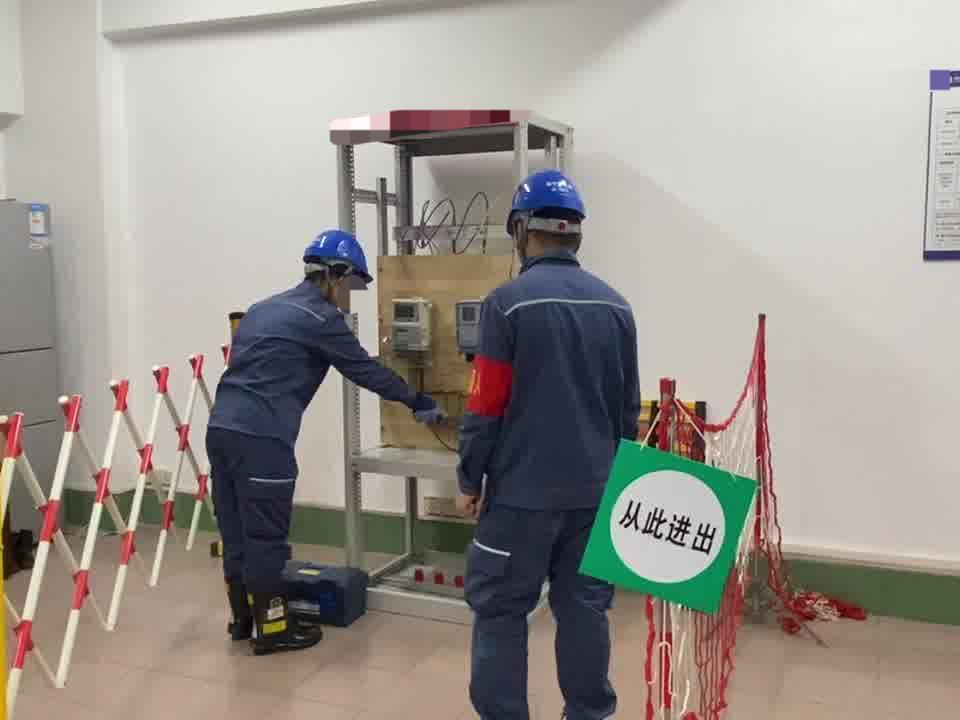halt: (506, 170, 593, 260), (303, 230, 375, 307)
inear: (324, 263, 353, 304), (509, 219, 536, 257)
